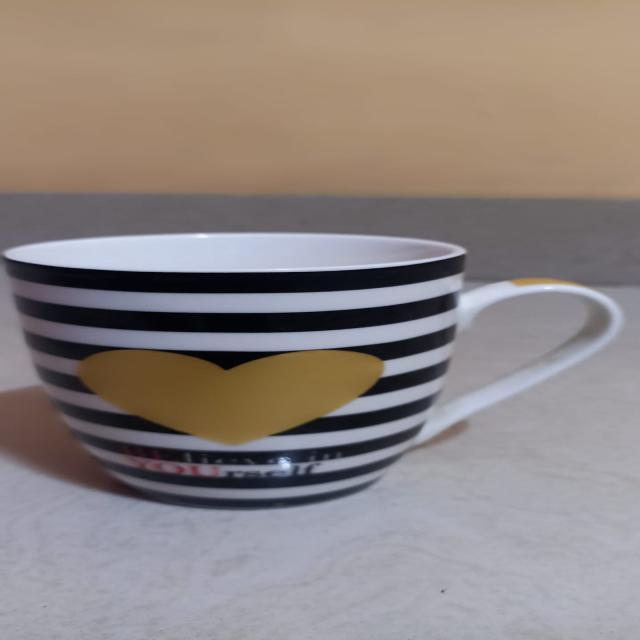cup: (0, 225, 640, 516)
